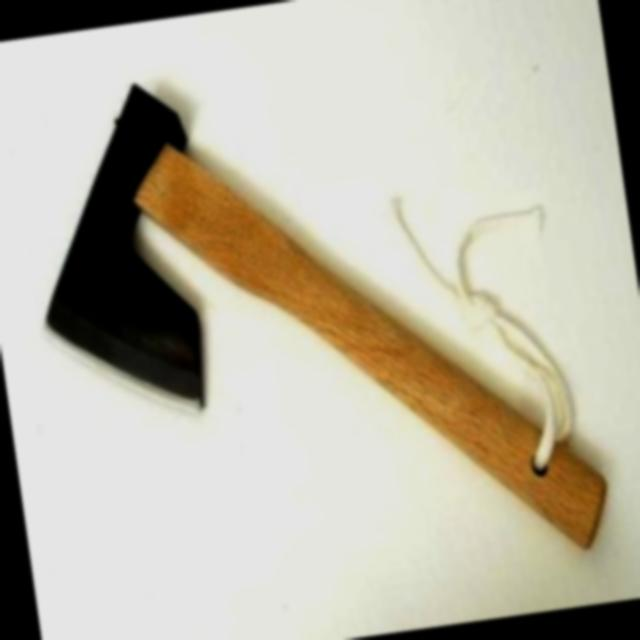ax: (12, 17, 622, 626)
